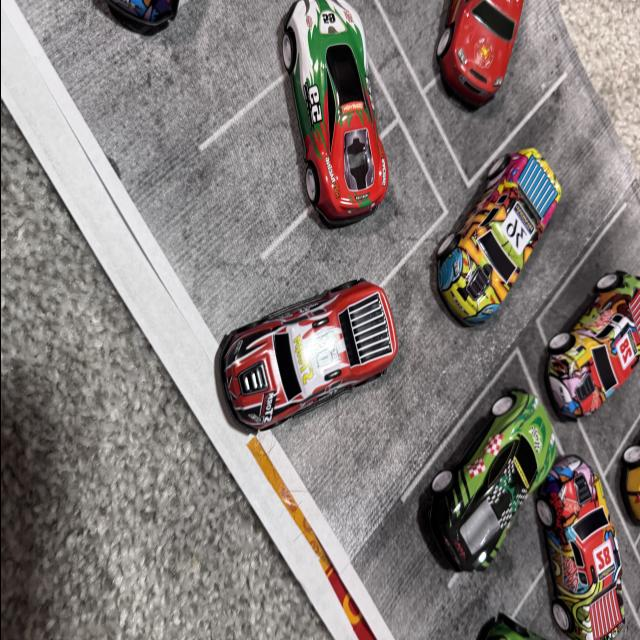car: (206, 264, 407, 426), (270, 0, 402, 238), (430, 133, 590, 311), (397, 380, 542, 560), (524, 434, 620, 640), (545, 248, 640, 429), (444, 0, 526, 104)
